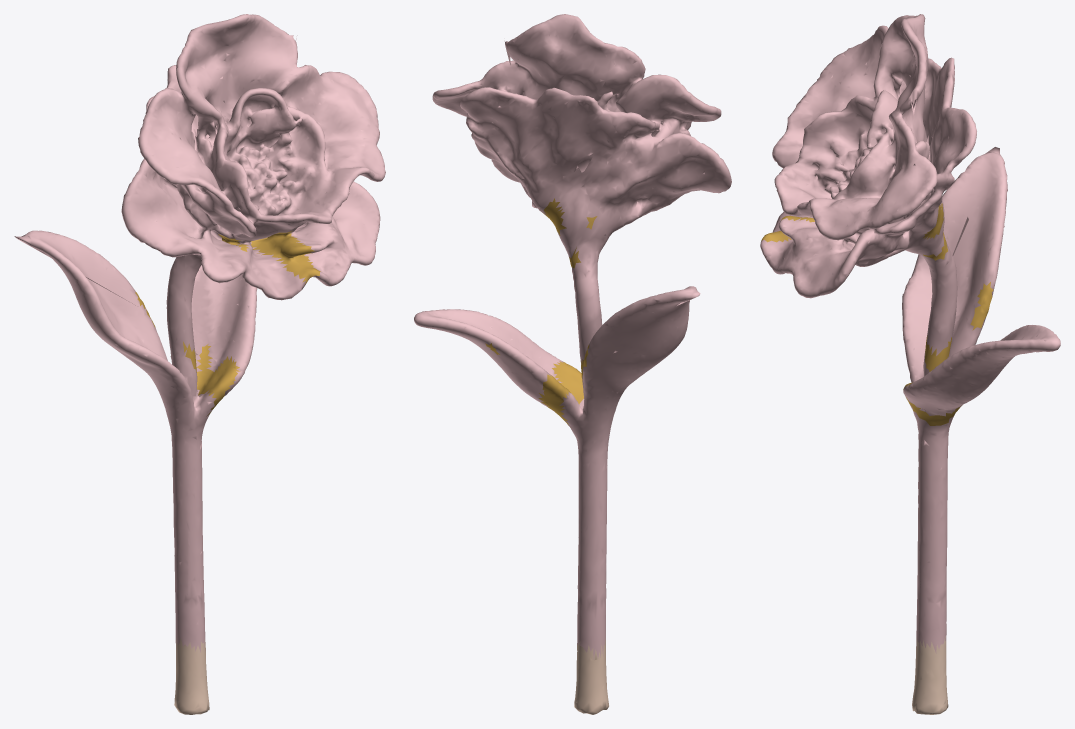
Rendered from van-ai.glb.
3 views of the same model, side by side, from view 1: azimuth 30°, elevation 25°; view 2: azimuth 150°, elevation 25°; view 3: azimuth 270°, elevation 25° (orthographic). The views are drawn at different scales.
Visible parts, largest first — view 1: petal, stamen, stem; view 2: petal, stamen, stem; view 3: petal, stem, stamen.
Part boxes in pixels (x1=…): petal: x1=14, y1=14, x2=385, y2=652; stamen: x1=135, y1=231, x2=320, y2=416; stem: x1=174, y1=638, x2=209, y2=714; petal: x1=414, y1=14, x2=731, y2=659; stamen: x1=485, y1=198, x2=597, y2=427; stem: x1=574, y1=638, x2=608, y2=714; petal: x1=760, y1=14, x2=1060, y2=653; stem: x1=912, y1=636, x2=948, y2=714; stamen: x1=761, y1=203, x2=993, y2=425.
Bounding box in the file's own units: 0.9285 × 1.96 × 0.7581.
